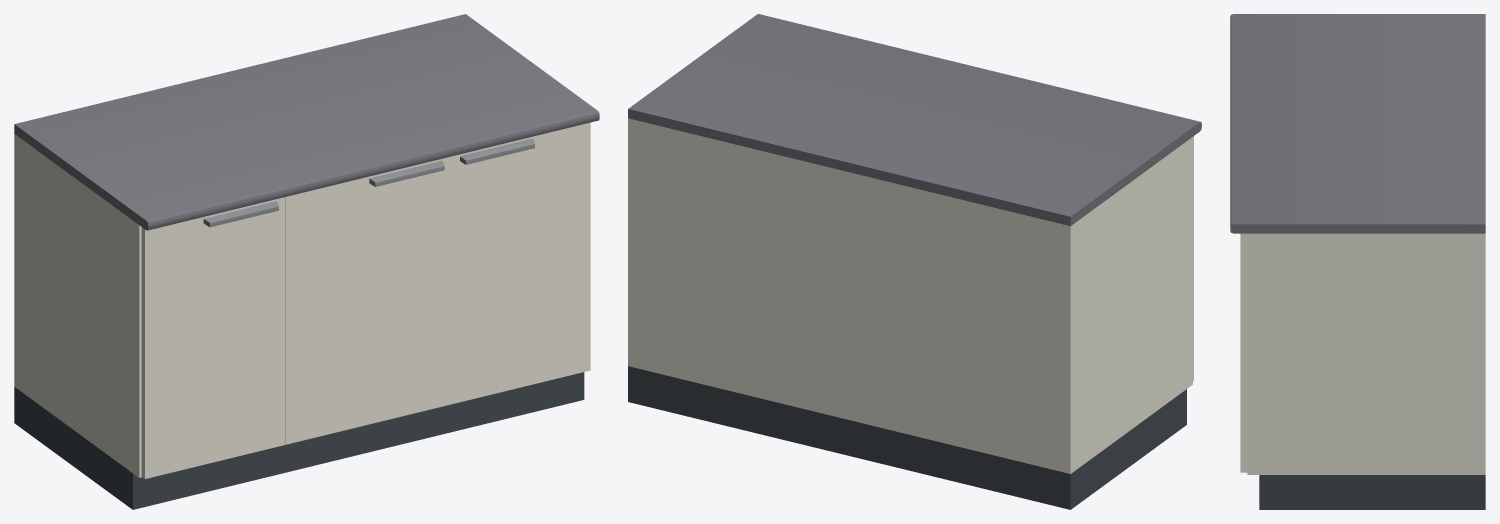
Rendered from SM_Workbench.FBX.
3 views of the same model, side by side, from view 1: azimuth 30°, elevation 25°; view 2: azimuth 150°, elevation 25°; view 3: azimuth 270°, elevation 25° (orthographic). The views are drawn at different scales.
Visible parts, largest first — view 1: Workbench_LOD0, Cupboard_Door_Middle_LOD0, Cupboard_Door_Left_LOD0, Cupboard_Door_Right_LOD0; view 2: Workbench_LOD0; view 3: Workbench_LOD0, Cupboard_Door_Right_LOD0.
Part boxes in pixels (x1=…): Workbench_LOD0: x1=14, y1=14, x2=599, y2=509; Cupboard_Door_Middle_LOD0: x1=285, y1=156, x2=450, y2=444; Cupboard_Door_Left_LOD0: x1=141, y1=197, x2=285, y2=478; Cupboard_Door_Right_LOD0: x1=451, y1=122, x2=590, y2=404; Workbench_LOD0: x1=628, y1=14, x2=1201, y2=509; Workbench_LOD0: x1=1230, y1=14, x2=1485, y2=509; Cupboard_Door_Right_LOD0: x1=1240, y1=233, x2=1247, y2=472.
Size of what is drawn, in the model's own units: 1.42 by 0.8989 by 0.7292.
